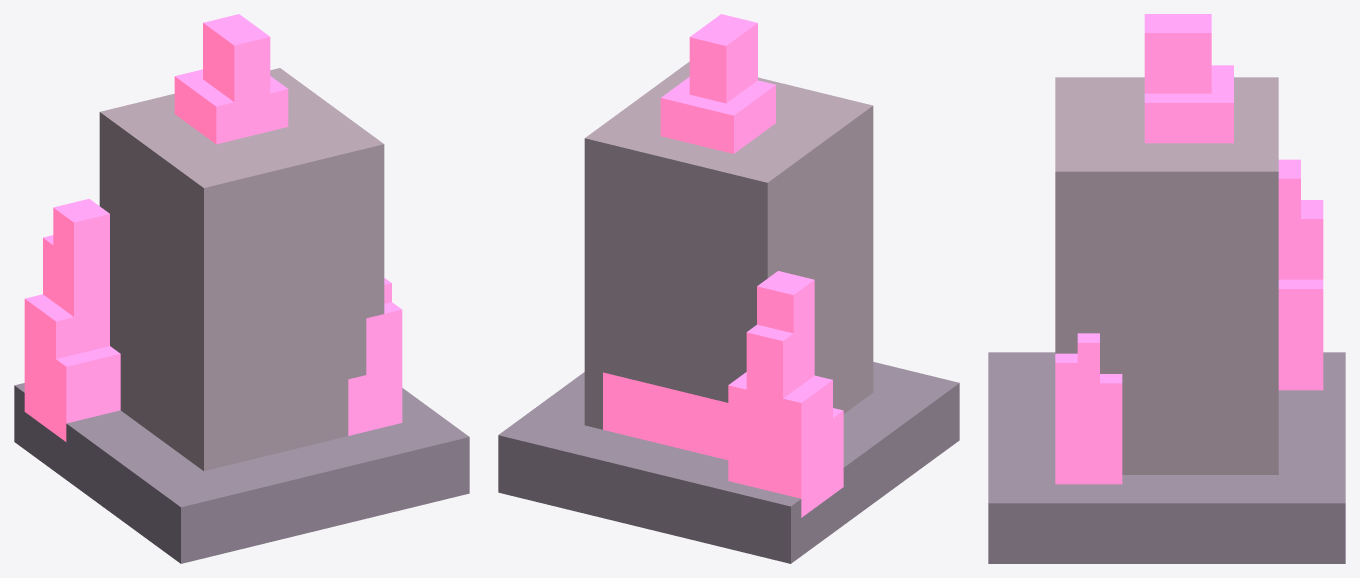
File: blood_crystal_pillar.glb
The picture shows the model from 3 angles, left to right: view 1: azimuth 30°, elevation 25°; view 2: azimuth 150°, elevation 25°; view 3: azimuth 270°, elevation 25°; orthographic projection. The views are drawn at different scales.
Size of the model in its own units: 0.6667 by 0.9583 by 0.6667.
